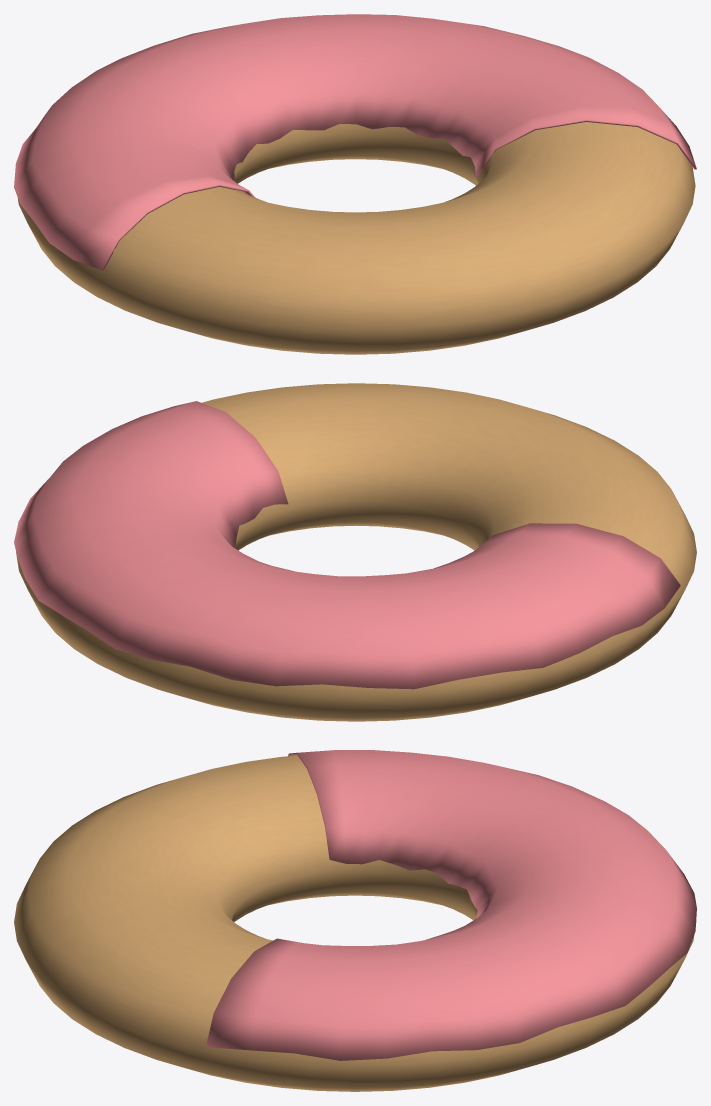
File: KD_CandyStep_DonutBeret.fbx
3 views of the same model, one above another, from view 1: azimuth 30°, elevation 25°; view 2: azimuth 150°, elevation 25°; view 3: azimuth 270°, elevation 25° (orthographic).
Visible parts, largest first — view 1: KD_CandyStep_DonutBeret; view 2: KD_CandyStep_DonutBeret; view 3: KD_CandyStep_DonutBeret.
Boxes of the visible parts, x1,y1,x2,y2 form: KD_CandyStep_DonutBeret: [14, 14, 696, 354]; KD_CandyStep_DonutBeret: [14, 383, 696, 721]; KD_CandyStep_DonutBeret: [14, 750, 696, 1091].
Bounding box in the file's own units: 0.1889 × 0.035 × 0.1882.
Materials: 1 (1 with a texture image).
